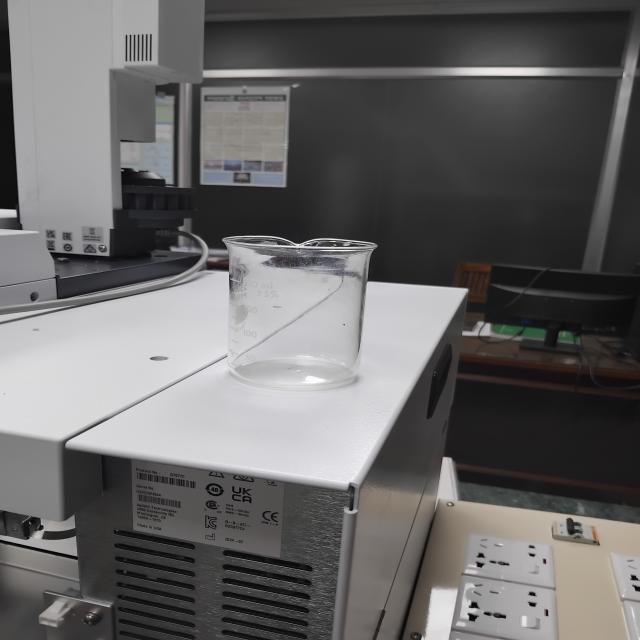Beaker: (178, 188, 400, 422)
